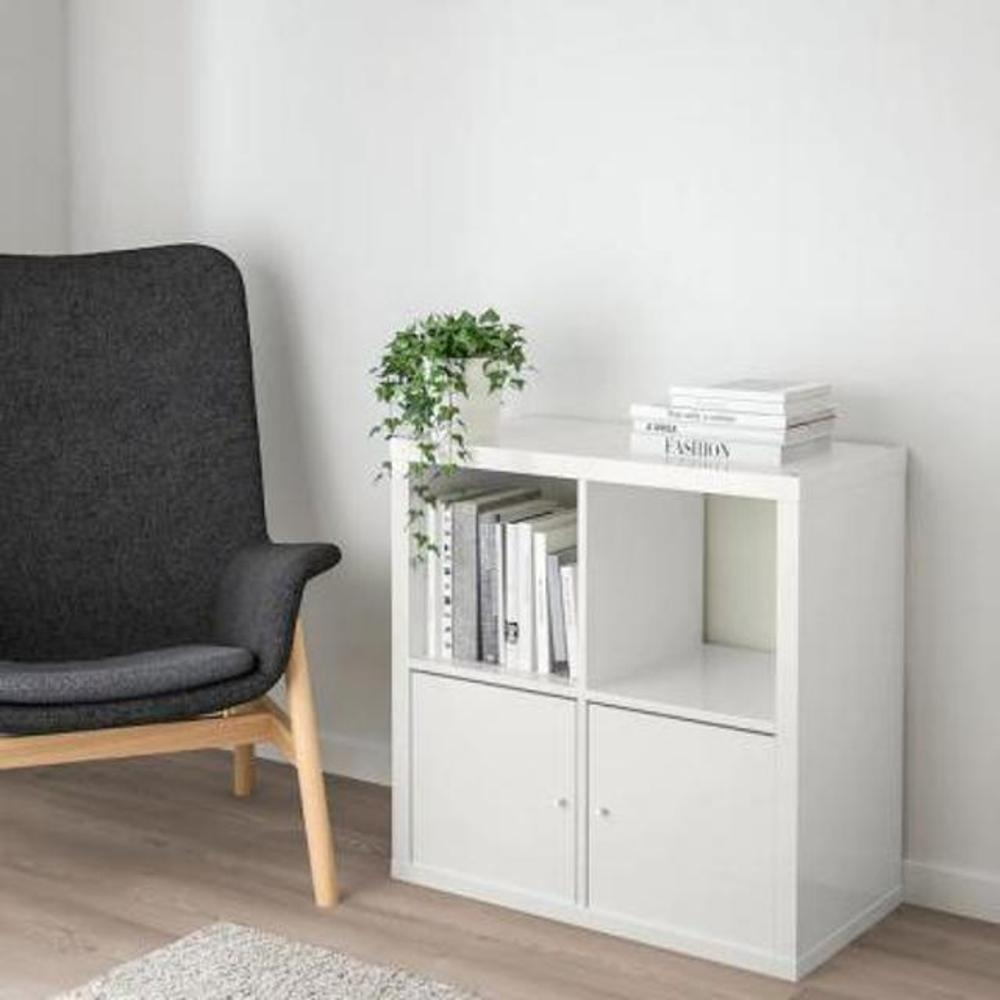lamp: (385, 406, 911, 984)
